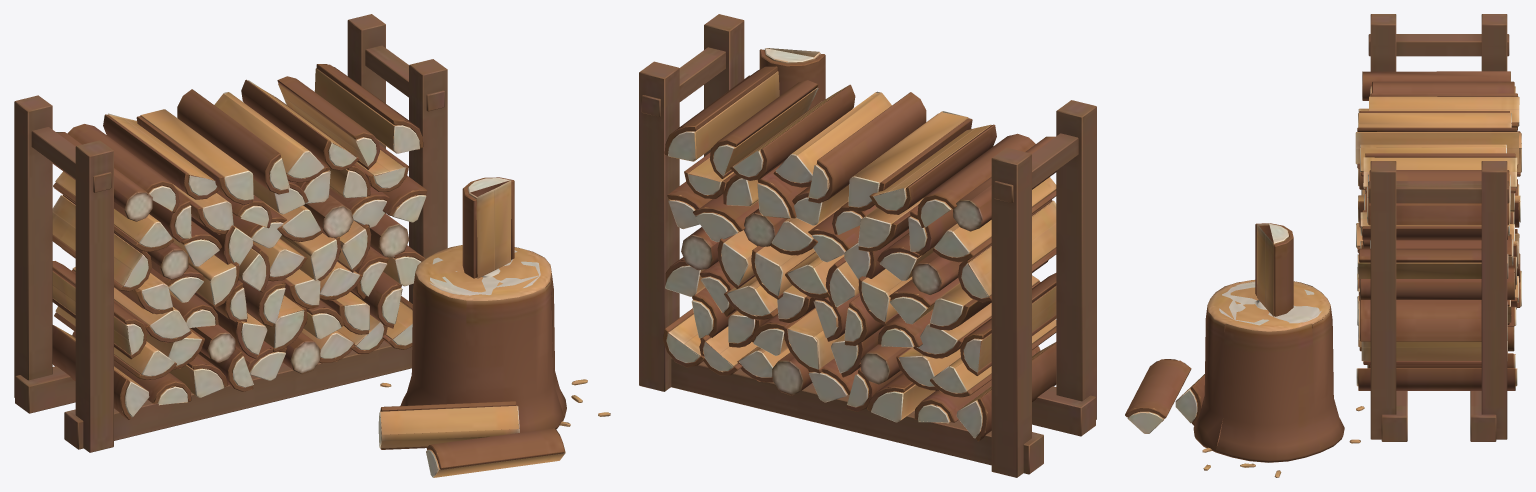
The model's file is lena.glb.
3 views of the same model, side by side, from view 1: azimuth 30°, elevation 25°; view 2: azimuth 150°, elevation 25°; view 3: azimuth 270°, elevation 25° (orthographic). The views are drawn at different scales.
Visible parts, largest first — view 1: firewood-pile_body; view 2: firewood-pile_body; view 3: firewood-pile_body.
Boxes of the visible parts, box(x1,y1,x2,y2) form: firewood-pile_body: box(14, 14, 610, 477); firewood-pile_body: box(639, 14, 1096, 477); firewood-pile_body: box(1125, 14, 1521, 477).
Bounding box in the file's own units: 1.27 × 0.8003 × 1.07.
1 material, 1 textured.
